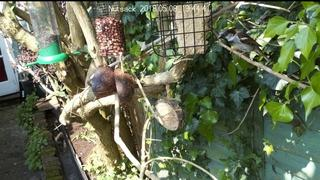sparrow: (217, 29, 272, 63)
